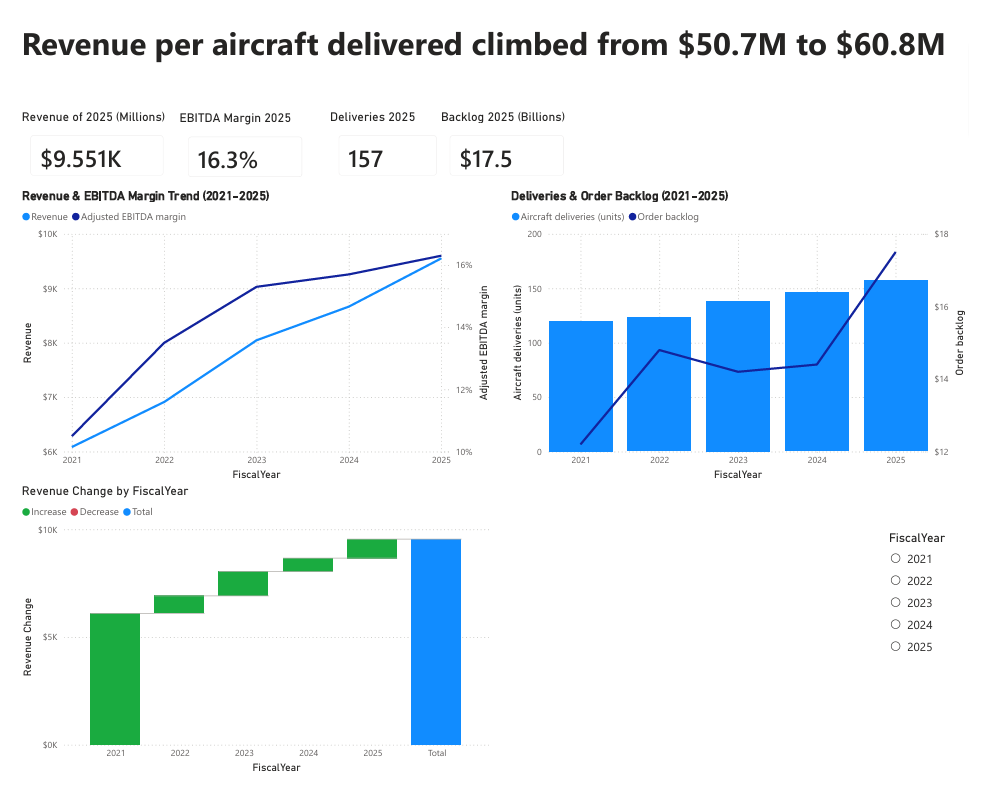

The dashboard page shown, as its layout file describes it:
{"tool":"powerbi","page":{"name":"Dashboard","canvas":[1300,1050],"ordinal":0},"visuals":[{"type":"cardVisual","title":"Revenue of 2025 (Millions)","fields":{"Data":["Sum(bombardier_finance. Revenue )"]},"box":[0,124.7,216.5,108.2],"z":0},{"type":"cardVisual","title":"EBITDA Margin 2025","fields":{"Data":["Sum(bombardier_finance.Adjusted EBITDA margin)"]},"box":[216.5,126.6,190.8,108.2],"z":1},{"type":"cardVisual","title":"Deliveries 2025","fields":{"Data":["Sum(bombardier_finance.Aircraft deliveries (units))"]},"box":[421.9,124.7,168.8,108.2],"z":2},{"type":"cardVisual","title":"Backlog 2025 (Billions)","fields":{"Data":["Sum(bombardier_finance. Order backlog )"]},"box":[574.2,124.7,190.8,108.2],"z":3},{"type":"lineChart","title":"Revenue & EBITDA Margin Trend (2021-2025)","fields":{"Category":["bombardier_finance.FiscalYear"],"Y":["Sum(bombardier_finance. Revenue )"],"Y2":["Sum(bombardier_finance.Adjusted EBITDA margin)"]},"box":[0,233,649.4,403.6],"z":4},{"type":"lineClusteredColumnComboChart","title":"Deliveries & Order Backlog (2021-2025)","fields":{"Category":["bombardier_finance.FiscalYear"],"Y":["Sum(bombardier_finance.Aircraft deliveries (units))"],"Y2":["Sum(bombardier_finance. Order backlog )"]},"box":[669.6,233,631,403.6],"z":5},{"type":"waterfallChart","fields":{"Category":["bombardier_finance.FiscalYear"],"Y":["Sum(bombardier_finance.Revenue Change)"]},"box":[0,636.5,649.4,401.7],"z":6},{"type":"listSlicer","fields":{"Values":["bombardier_finance.FiscalYear"]},"box":[1186.9,700.7,88.1,181.6],"z":7},{"type":"textbox","box":[0,0,1300.6,91.7],"z":8}]}

Visuals, with their boxes in screenshot pixels (x1, y1, x2, y2), scaled from the page's 1300x1050 canvas onto the 986x802 screenshot:
"Revenue of 2025 (Millions)" cardVisual: {"left": 0, "top": 95, "right": 164, "bottom": 178}
"EBITDA Margin 2025" cardVisual: {"left": 164, "top": 97, "right": 309, "bottom": 179}
"Deliveries 2025" cardVisual: {"left": 320, "top": 95, "right": 448, "bottom": 178}
"Backlog 2025 (Billions)" cardVisual: {"left": 436, "top": 95, "right": 580, "bottom": 178}
"Revenue & EBITDA Margin Trend (2021-2025)" lineChart: {"left": 0, "top": 178, "right": 493, "bottom": 486}
"Deliveries & Order Backlog (2021-2025)" lineClusteredColumnComboChart: {"left": 508, "top": 178, "right": 985, "bottom": 486}
waterfallChart - bombardier_finance.FiscalYear x Sum(bombardier_finance.Revenue Change): {"left": 0, "top": 486, "right": 493, "bottom": 793}
listSlicer - bombardier_finance.FiscalYear: {"left": 900, "top": 535, "right": 967, "bottom": 674}
textbox: {"left": 0, "top": 0, "right": 985, "bottom": 70}
